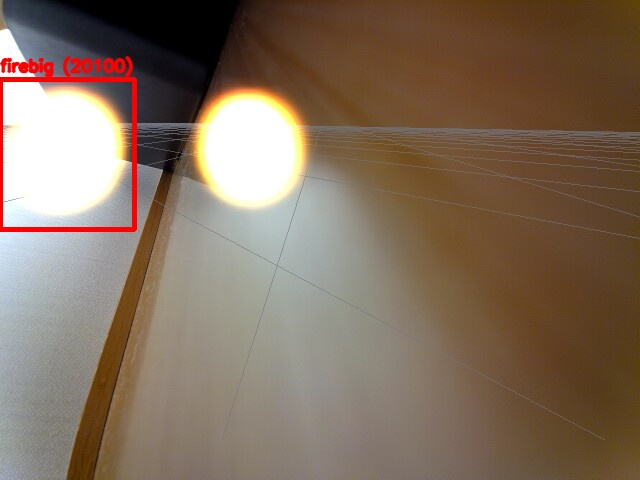firebig: (0, 79, 134, 229)
